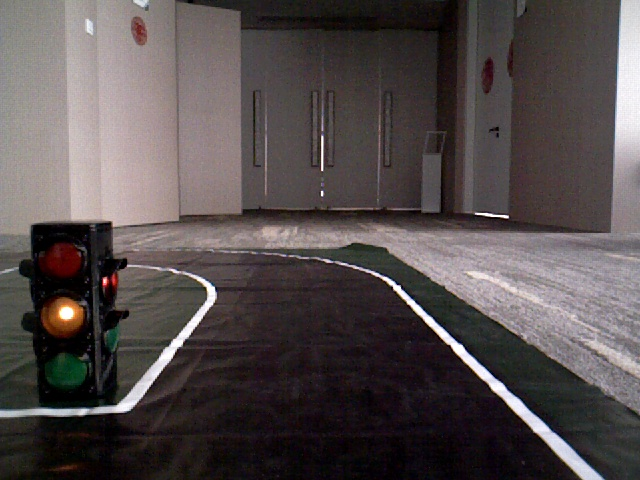yellow: (33, 227, 96, 393)
